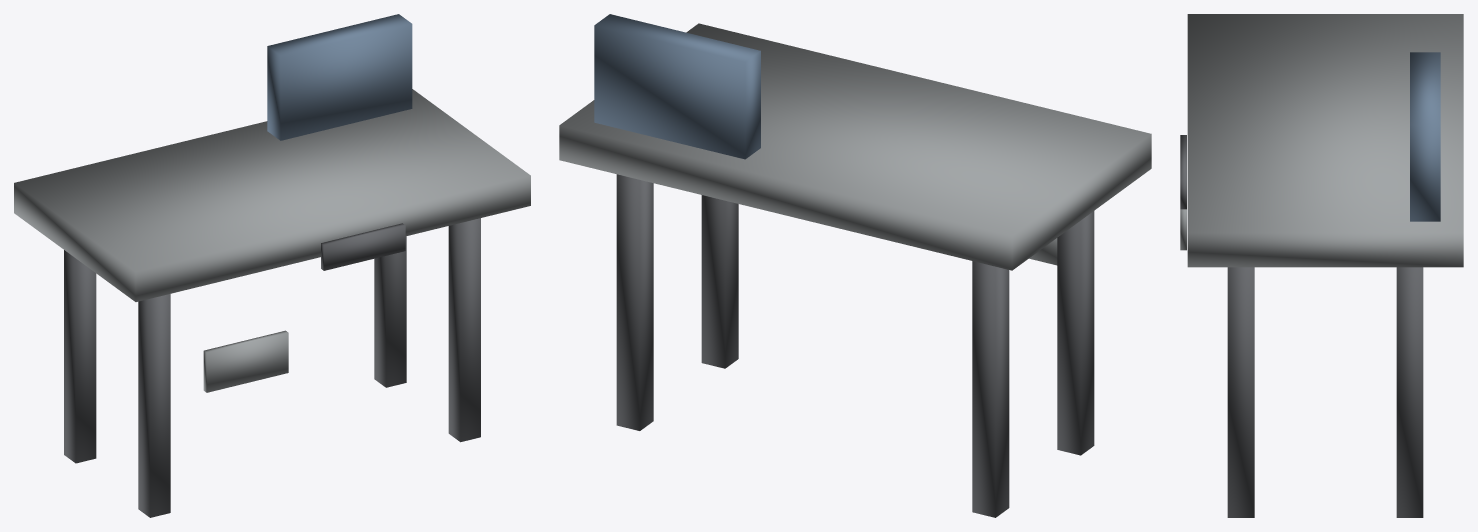
The model's file is welding_table__weathered.glb.
3 views of the same model, side by side, from view 1: azimuth 30°, elevation 25°; view 2: azimuth 150°, elevation 25°; view 3: azimuth 270°, elevation 25° (orthographic). The views are drawn at different scales.
Parts seen in each view (by area): view 1: world; view 2: world; view 3: world.
Part boxes in pixels (x1,y1,x2,y2): world: (14,14,530,517); world: (559,14,1151,517); world: (1180,14,1463,517).
Size of the model in its own units: 1.35 by 1.15 by 0.7391.
